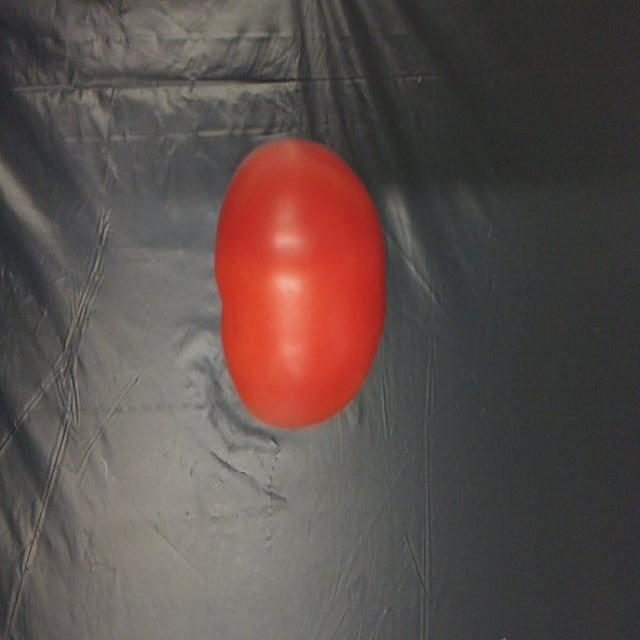kirmizi: (224, 114, 393, 446)
